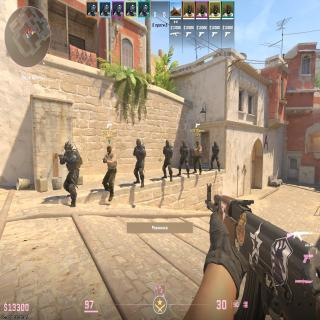CT-Body: (62, 141, 82, 207), (134, 138, 146, 187), (163, 139, 173, 182), (180, 140, 189, 177), (210, 141, 220, 172)
CT-Head: (64, 142, 72, 154), (136, 139, 141, 147), (166, 140, 170, 147), (182, 140, 186, 147), (214, 141, 217, 147)
T-Body: (102, 145, 118, 200), (194, 141, 202, 175)
T-Head: (106, 146, 112, 154), (196, 141, 199, 147)
